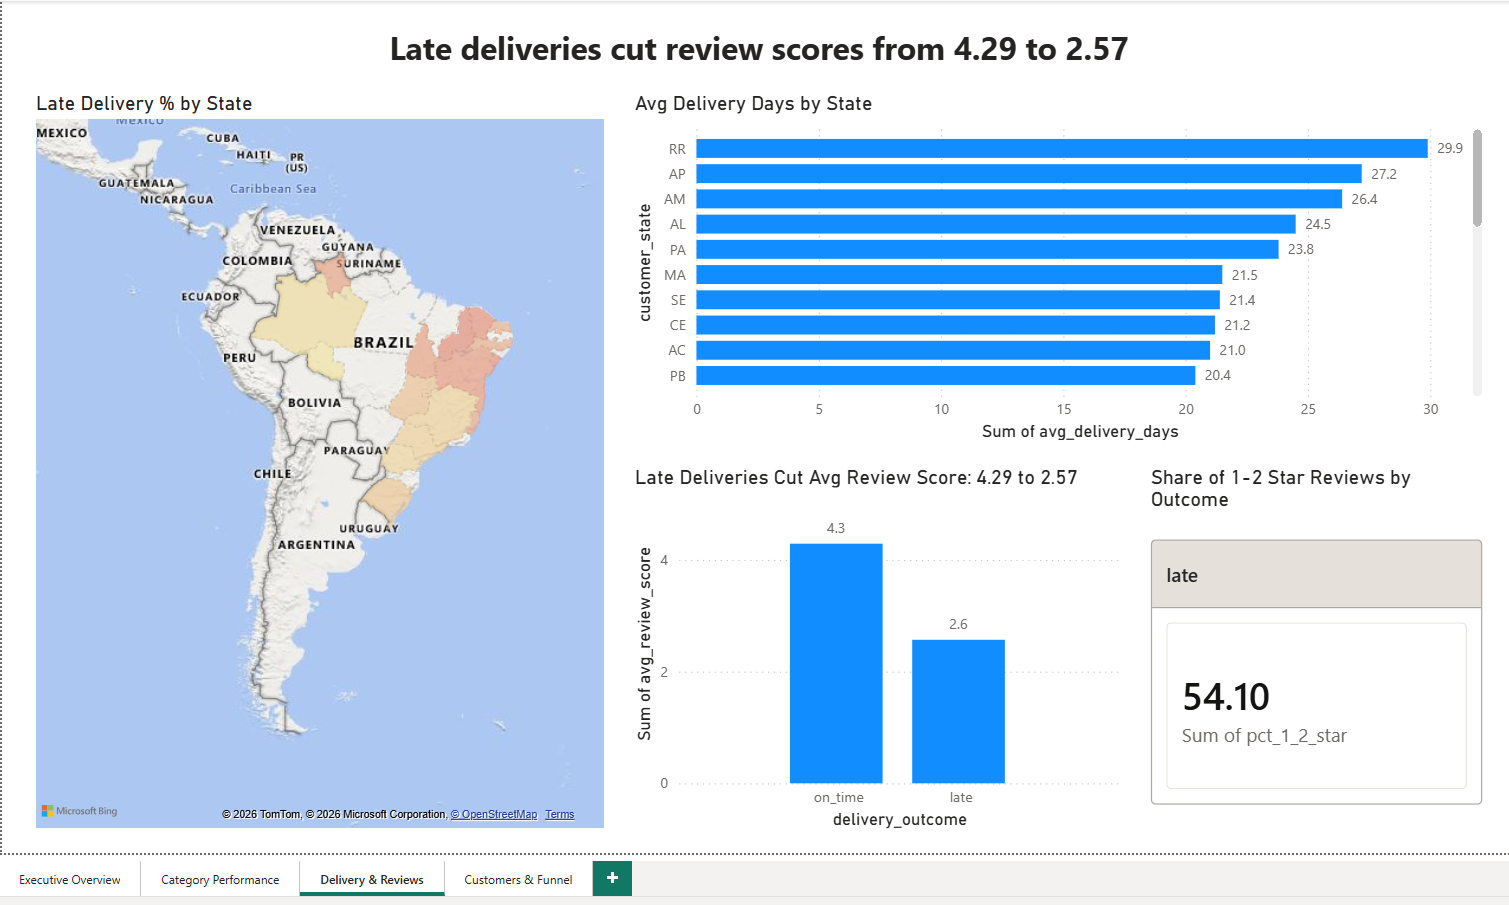

The page's visual inventory and layout, read from the dashboard file:
{"tool":"powerbi","page":{"name":"Delivery & Reviews","canvas":[1280,720],"ordinal":2},"visuals":[{"type":"filledMap","title":"Late Delivery % by State","fields":{"Category":["delivery_perf.state_full"]},"box":[24,76,490,628],"z":0},{"type":"clusteredColumnChart","title":"Late Deliveries Cut Avg Review Score: 4.29 to 2.57","fields":{"Category":["late_impact.delivery_outcome"],"Y":["Sum(late_impact.avg_review_score)"]},"box":[530,392,420,312],"z":1000},{"type":"cardVisual","title":"Share of 1-2 Star Reviews by Outcome","fields":{"Data":["Sum(late_impact.pct_1_2_star)"],"Rows":["late_impact.delivery_outcome"]},"box":[966,392,290,312],"z":2000},{"type":"clusteredBarChart","title":"Avg Delivery Days by State","fields":{"Category":["delivery_perf.customer_state"],"Y":["Sum(delivery_perf.avg_delivery_days)"]},"box":[530,76,726,300],"z":3000},{"type":"textbox","box":[24,16,1232,48],"z":4000}]}

Visuals, with their boxes on the page's 1280x720 design canvas (x1, y1, x2, y2). These are canvas units, not pixel positions in the 1509x905 screenshot, which may show the page scaled, cropped or inside an application window:
"Late Delivery % by State" filledMap: pyautogui.locateOnScreen(24, 76, 514, 704)
"Late Deliveries Cut Avg Review Score: 4.29 to 2.57" clusteredColumnChart: pyautogui.locateOnScreen(530, 392, 950, 704)
"Share of 1-2 Star Reviews by Outcome" cardVisual: pyautogui.locateOnScreen(966, 392, 1256, 704)
"Avg Delivery Days by State" clusteredBarChart: pyautogui.locateOnScreen(530, 76, 1256, 376)
textbox: pyautogui.locateOnScreen(24, 16, 1256, 64)
